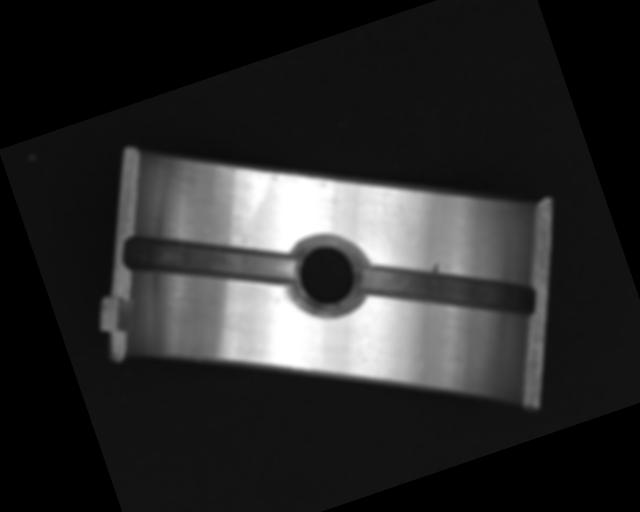bruise: (427, 260, 442, 274)
gap: (359, 218, 539, 361), (119, 189, 300, 329)
hole: (281, 226, 373, 323)
